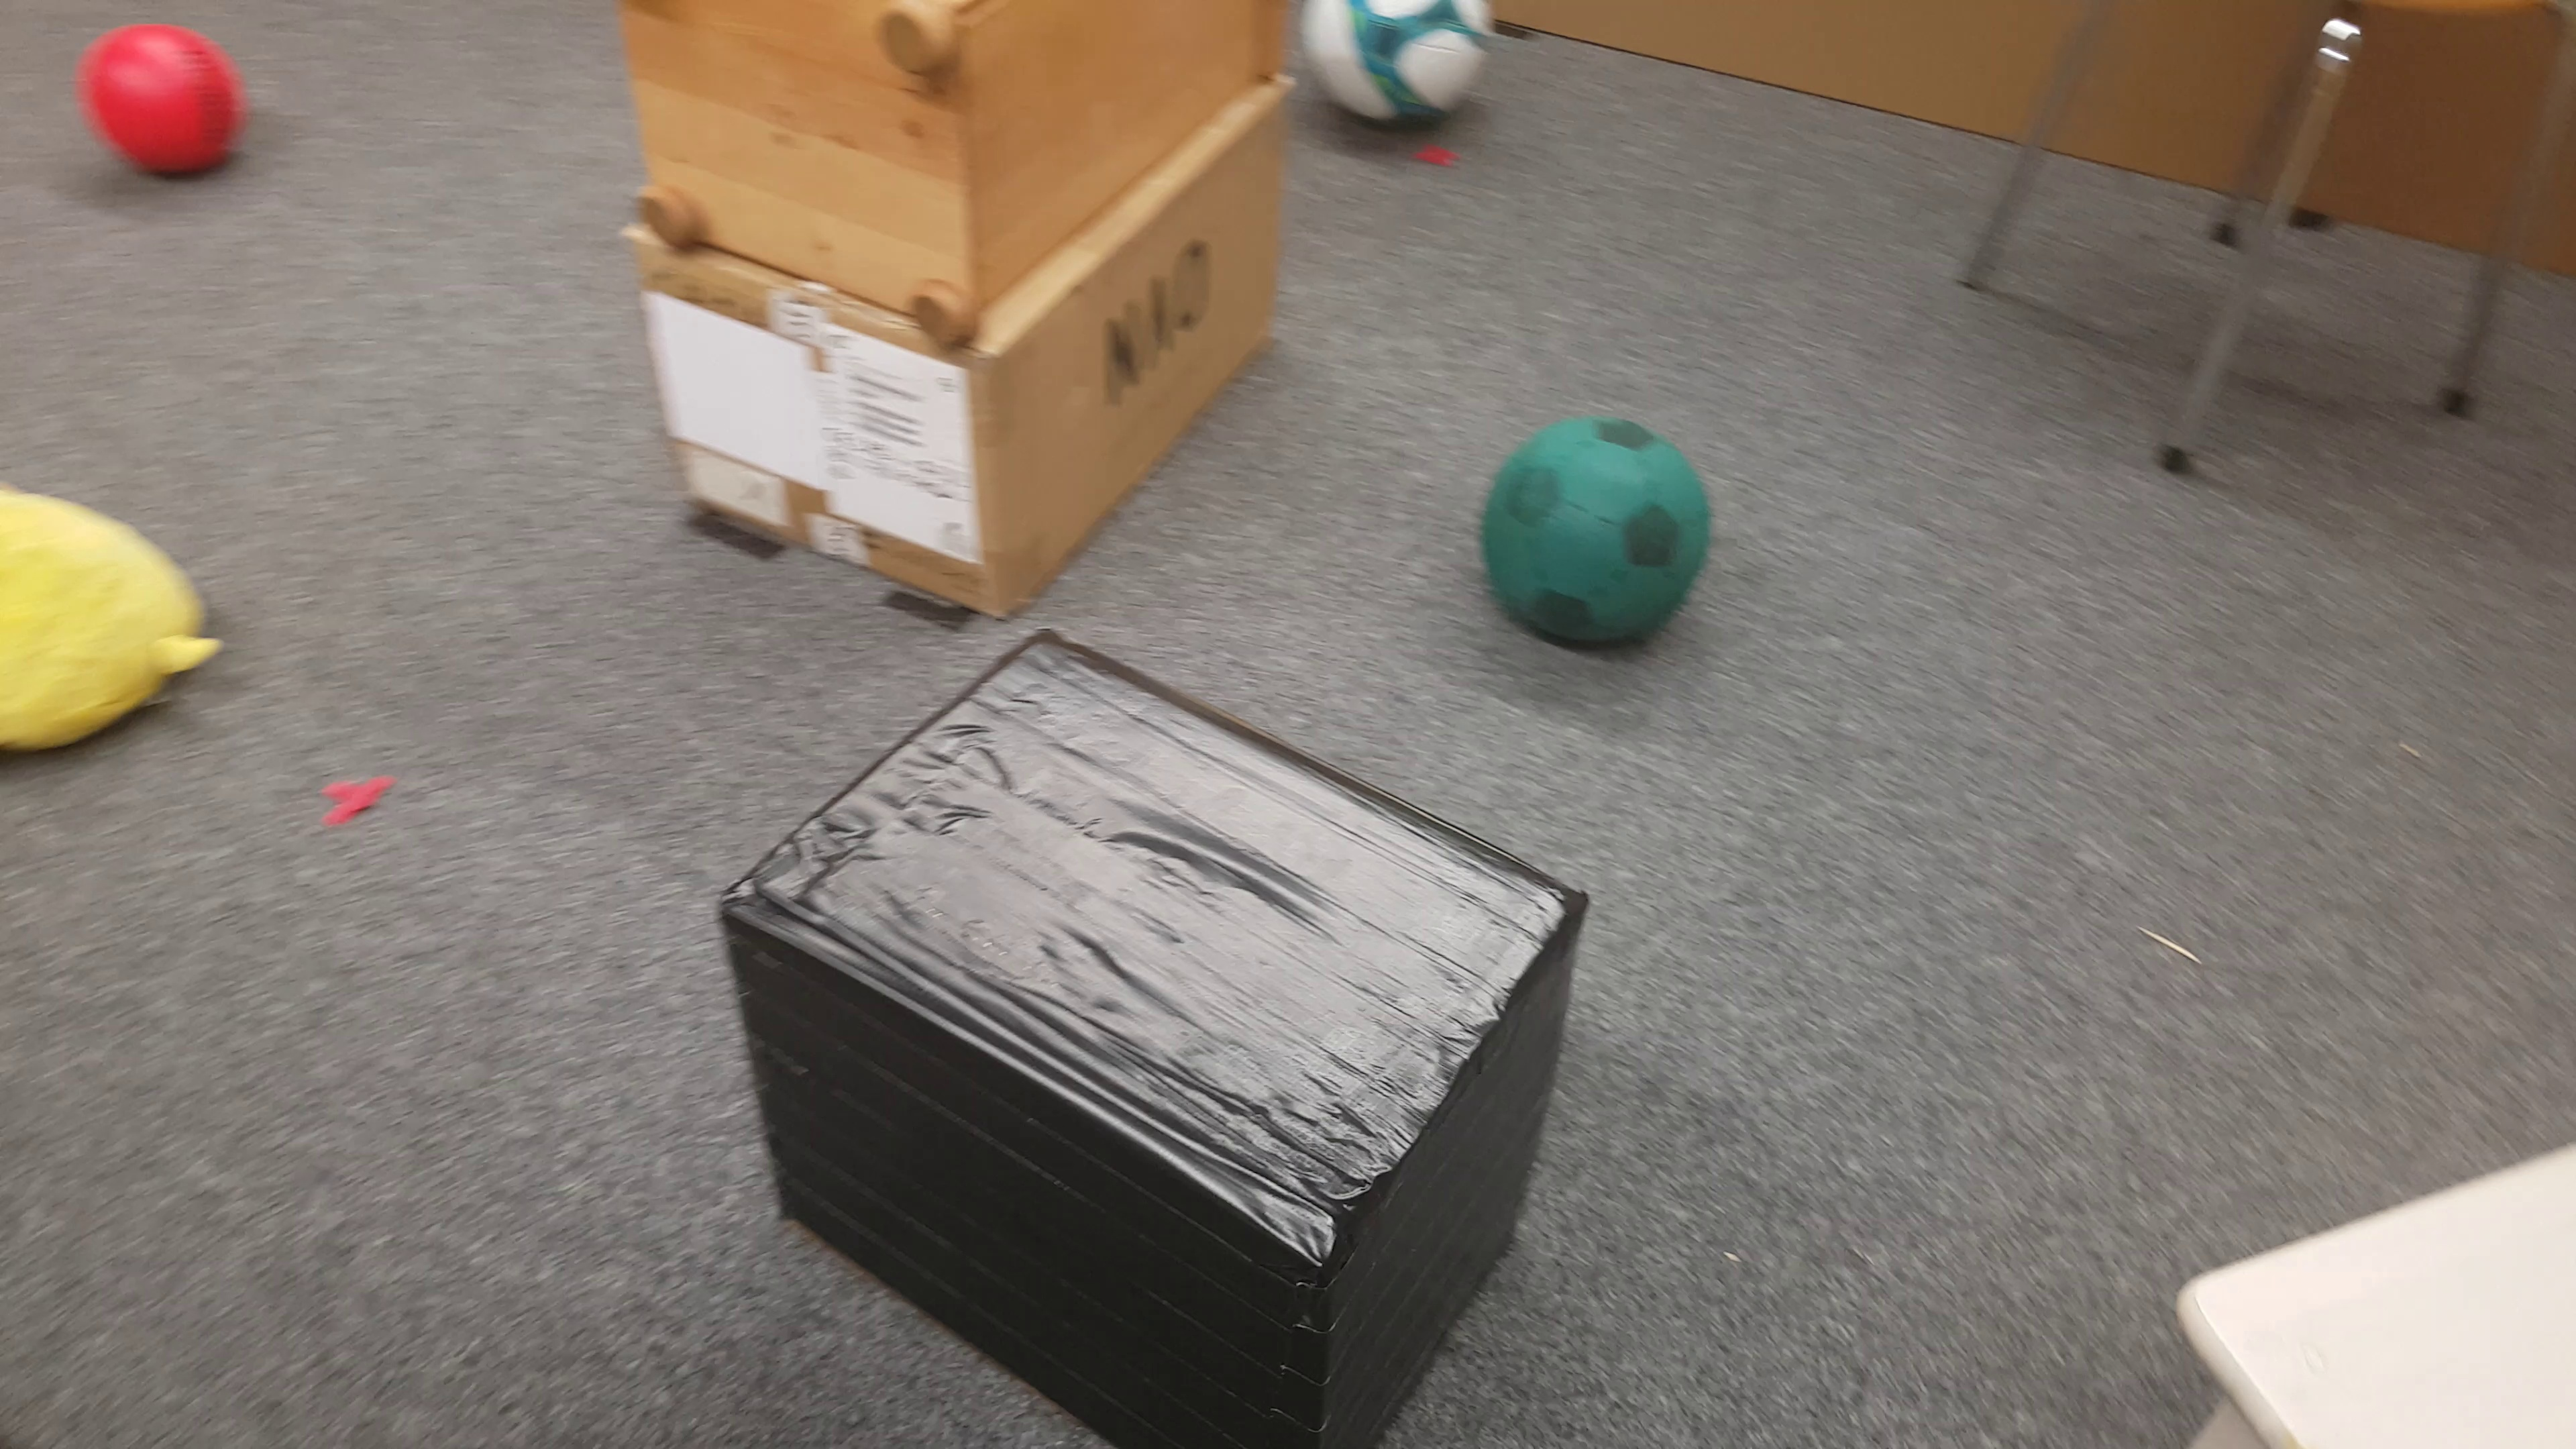grasp: (5, 487, 209, 773)
kick: (1481, 412, 1721, 662), (80, 19, 248, 182), (1302, 0, 1495, 133)
push: (717, 637, 1449, 1449)
